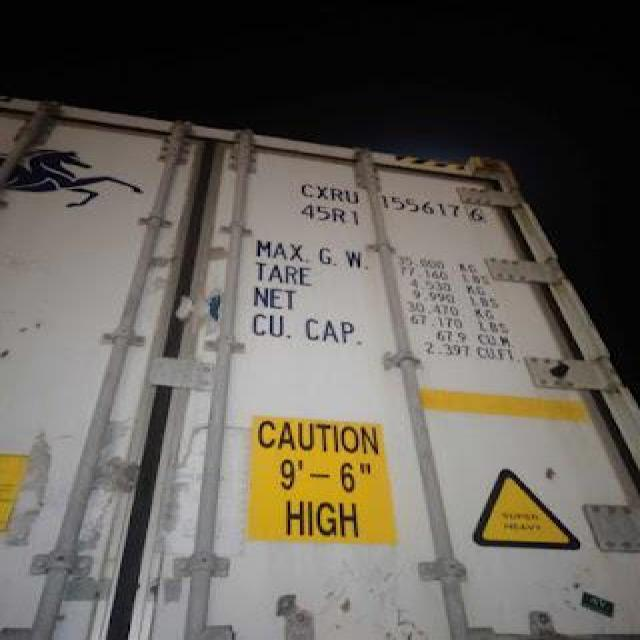ISO: (298, 202, 366, 232)
container_number: (293, 175, 496, 222)
